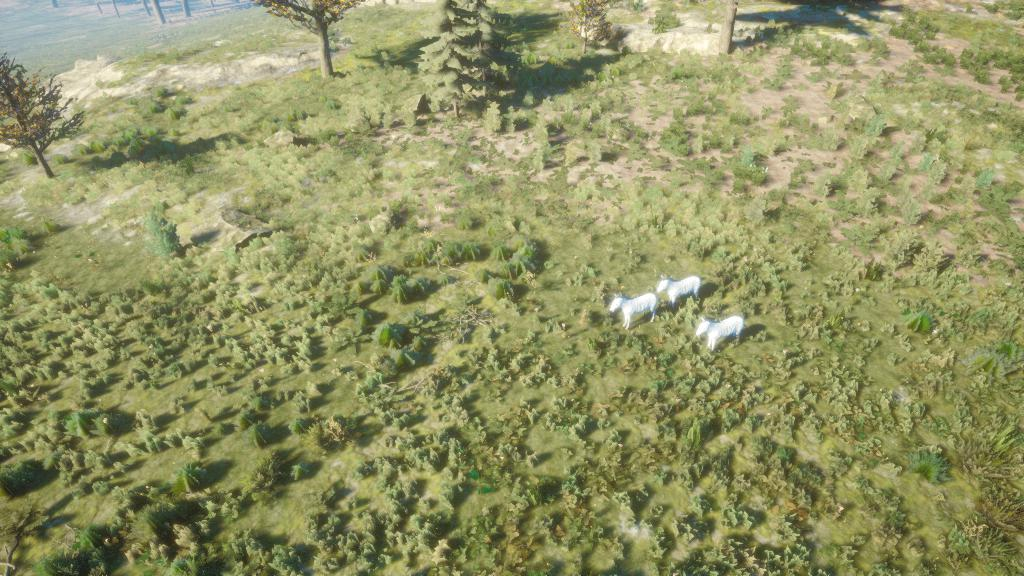zebra: (689, 308, 759, 364), (601, 289, 664, 333), (654, 267, 711, 314)
